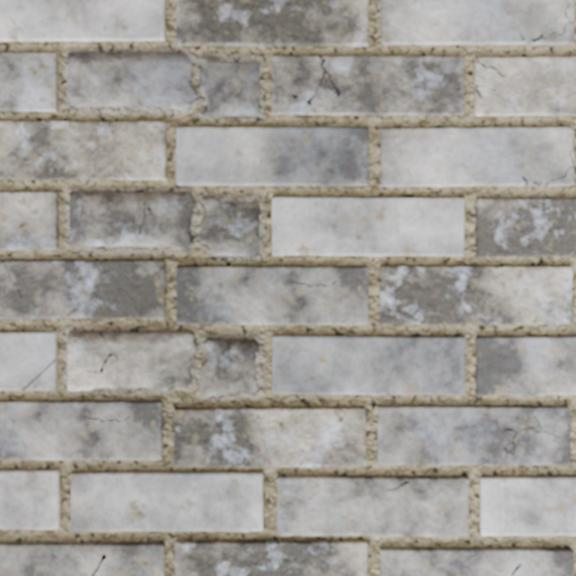brick: (272, 56, 464, 115), (378, 406, 569, 464), (174, 408, 365, 466), (278, 477, 469, 535), (273, 336, 464, 394), (273, 198, 464, 256), (381, 128, 572, 186), (71, 473, 263, 530), (380, 267, 571, 324), (177, 128, 367, 185), (177, 267, 367, 324), (0, 122, 165, 179), (0, 401, 162, 459), (0, 262, 165, 318), (177, 0, 367, 46), (382, 0, 573, 44), (0, 0, 165, 41), (176, 541, 367, 575), (475, 57, 575, 115), (477, 199, 575, 257), (477, 337, 575, 394), (481, 477, 575, 534), (0, 543, 164, 575), (380, 548, 572, 575), (0, 471, 59, 528), (0, 53, 57, 111), (0, 193, 57, 249), (0, 333, 56, 389), (531, 25, 573, 44), (27, 362, 56, 389), (549, 170, 573, 185)
broken_brick: (66, 52, 195, 112), (66, 332, 195, 391), (69, 192, 194, 250), (201, 198, 260, 257), (201, 57, 259, 117), (200, 338, 259, 396)
crack: (520, 2, 574, 44), (521, 149, 575, 186), (307, 55, 341, 107), (188, 335, 209, 390), (189, 58, 209, 114), (22, 358, 57, 390), (189, 194, 207, 243), (0, 261, 23, 299), (476, 57, 506, 78), (91, 554, 108, 575), (475, 83, 496, 99), (99, 332, 109, 347), (511, 563, 521, 575), (361, 162, 369, 172)
